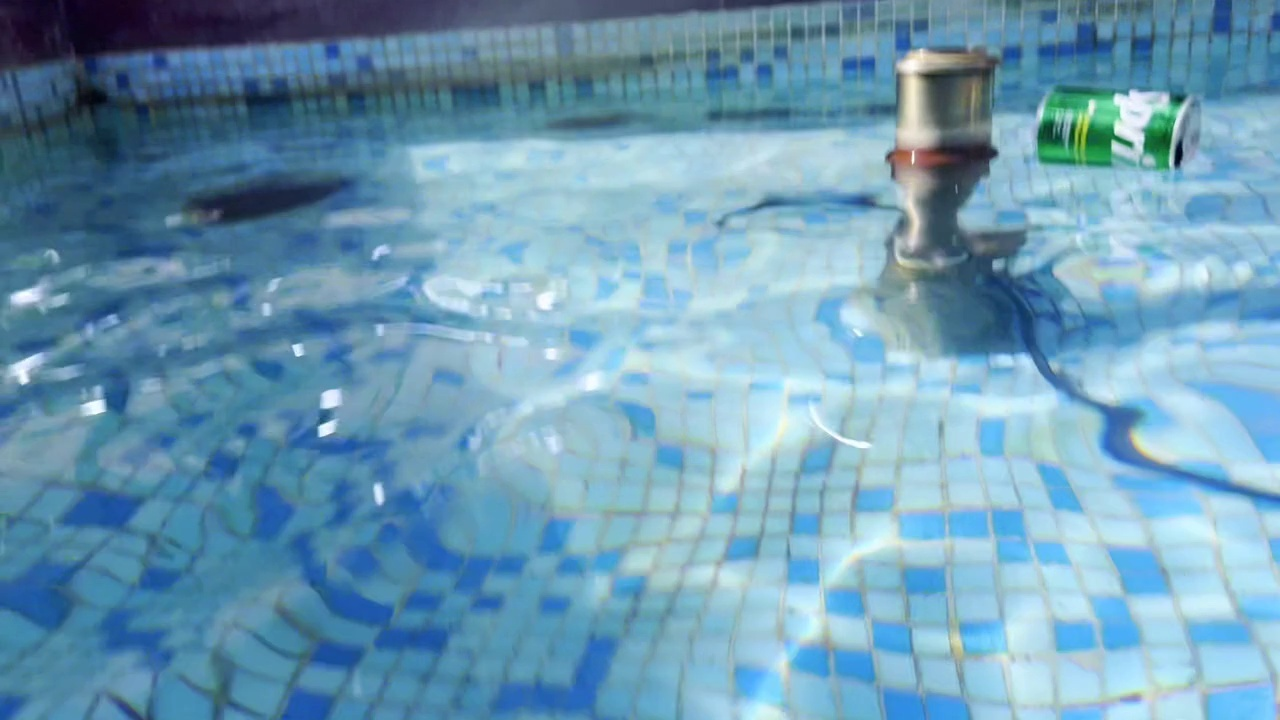debris: (1031, 57, 1219, 181)
